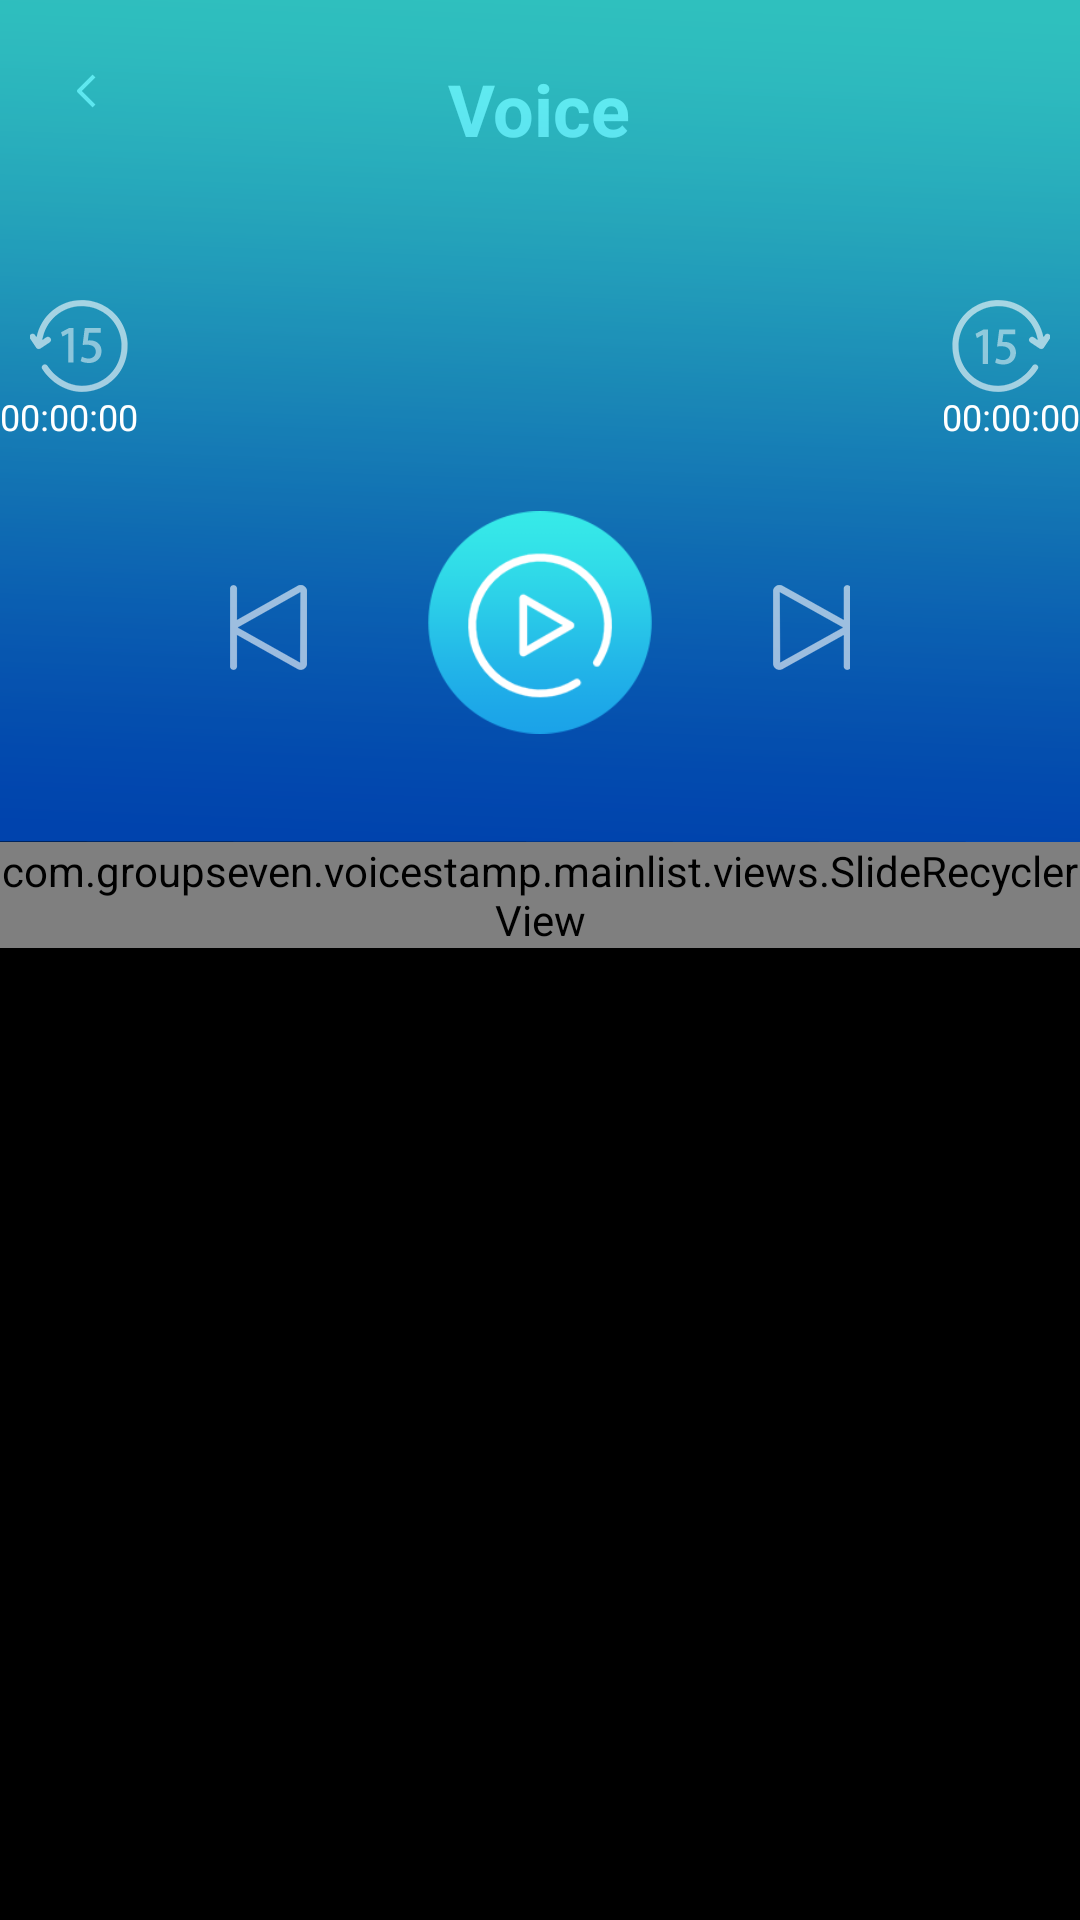

Icons on this 1080 x 1920 Android screen, each with the point to tap as [x,y]:
back arrow: [86,91]
playicon: [539,622]
record play back: [79,346]
record play next: [811,627]
record play pre: [268,627]
record play quick: [1001,346]
